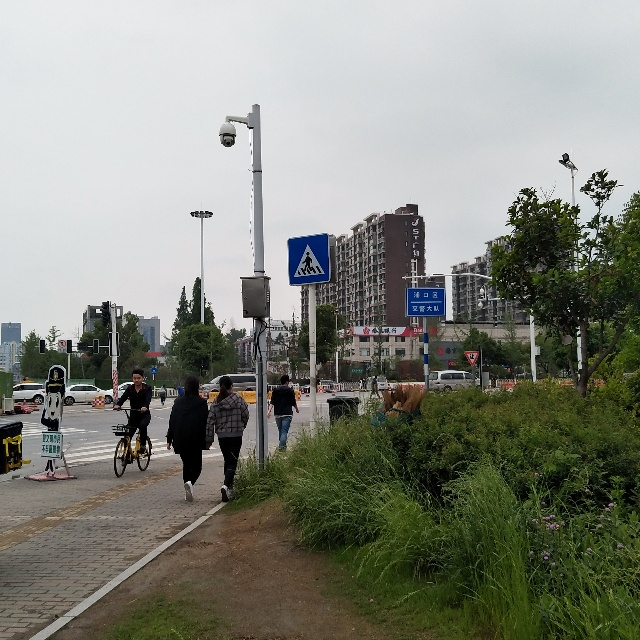crosswalk: (286, 236, 336, 287)
